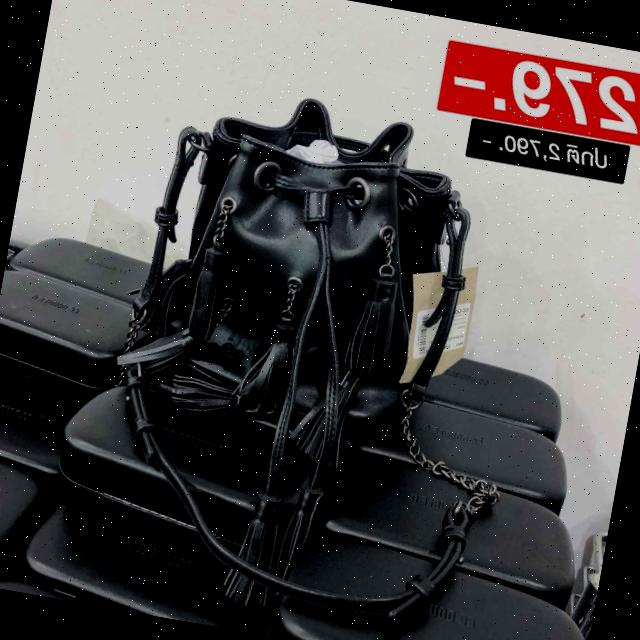handbag: (110, 69, 482, 458)
